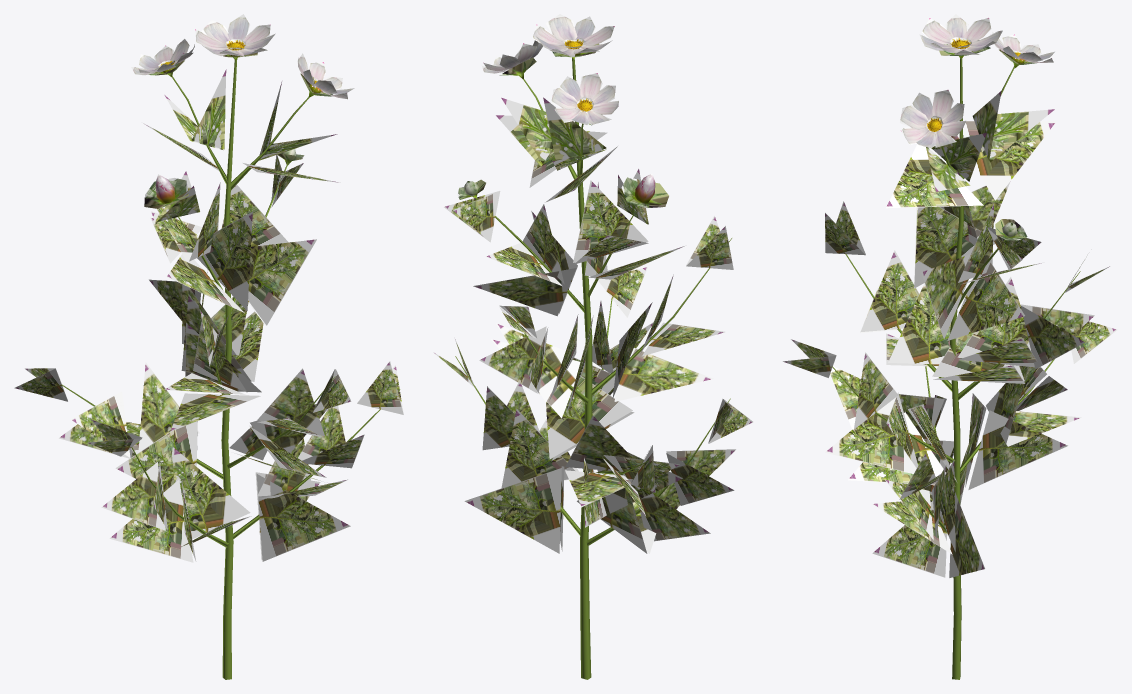
File: Cosmos1A-bloomer.fbx
3 views of the same model, side by side, from view 1: azimuth 30°, elevation 25°; view 2: azimuth 150°, elevation 25°; view 3: azimuth 270°, elevation 25° (orthographic).
Parts seen in each view (by area): view 1: Cosmos1A-bloomer; view 2: Cosmos1A-bloomer; view 3: Cosmos1A-bloomer.
Part boxes in pixels (x1,y1,x2,y2): Cosmos1A-bloomer: (14,14,403,679); Cosmos1A-bloomer: (433,14,752,679); Cosmos1A-bloomer: (783,14,1117,679).
Bounding box in the file's own units: 68.03 × 133 × 61.81.
